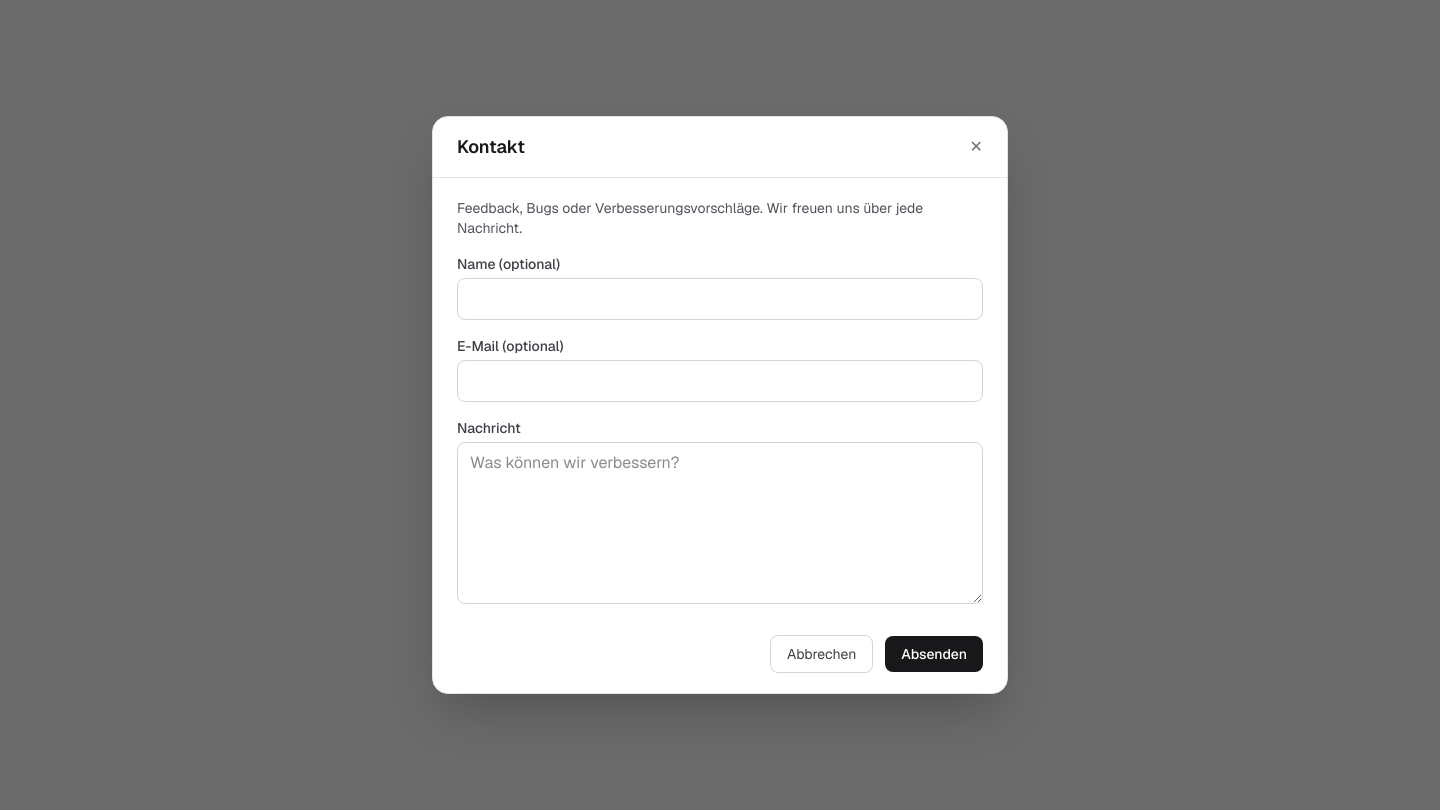
Test: ContactModal › zeigt Erfolg nach Submit ohne Navigation
Step 1. Type "Das ist ein valider Feedbacktext mit ausreichender Länge." into the text box labelled "Nachricht" → (720, 523), box [457, 442, 983, 604]
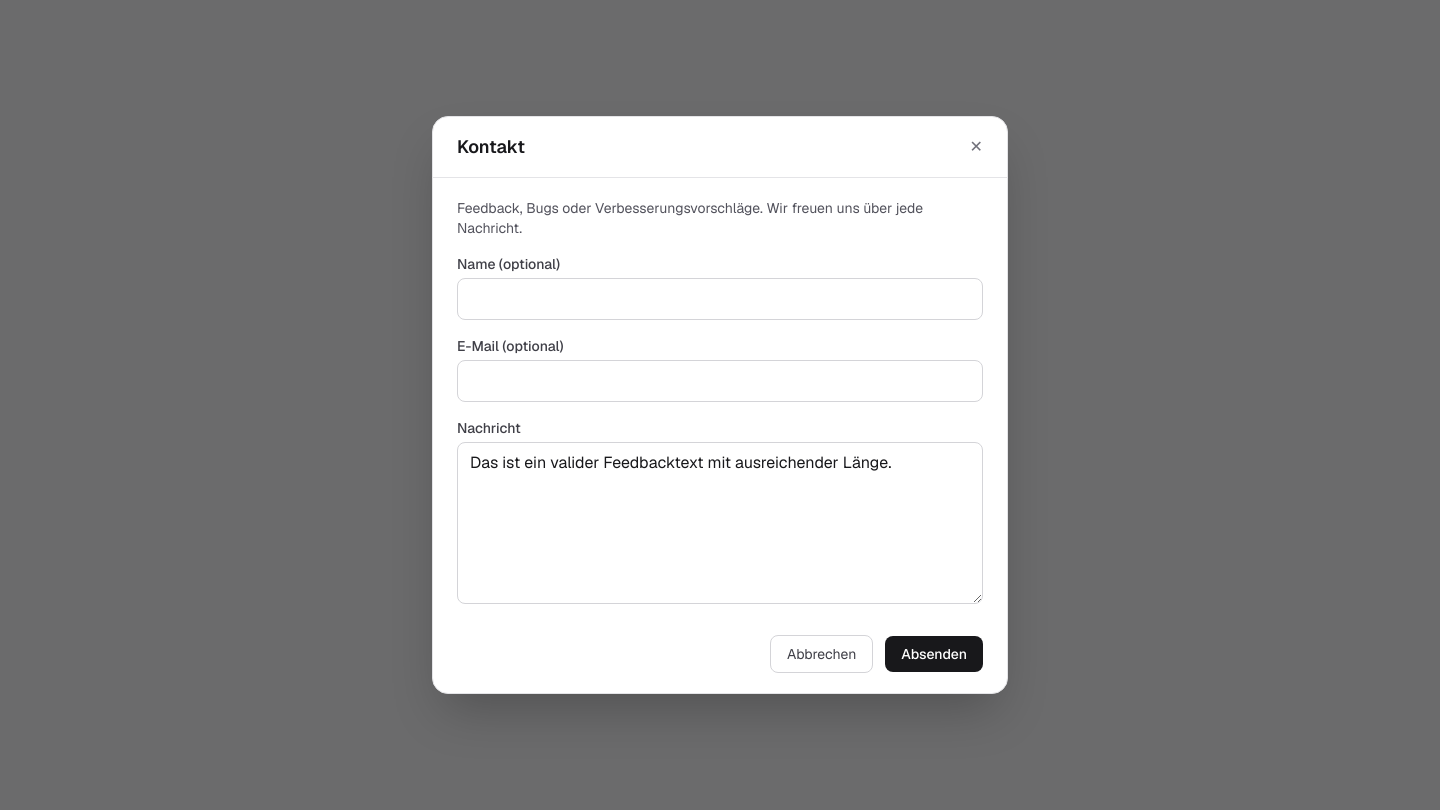
Step 2. Click the button "Absenden" → (934, 654), box [885, 636, 983, 672]
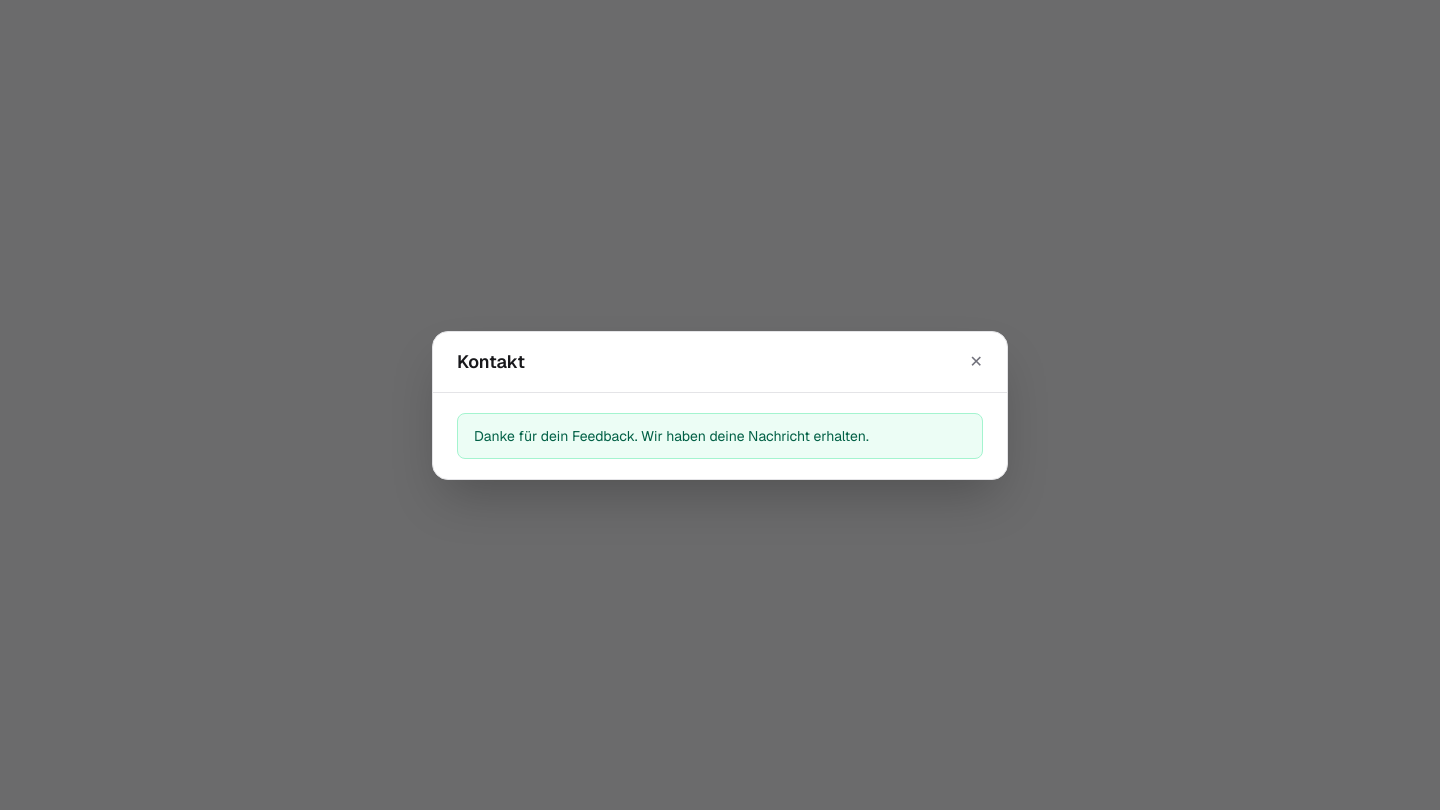
Check: the text "Danke für dein Feedback. Wir haben deine Nachricht erhalten." is shown, box [457, 412, 983, 458]
